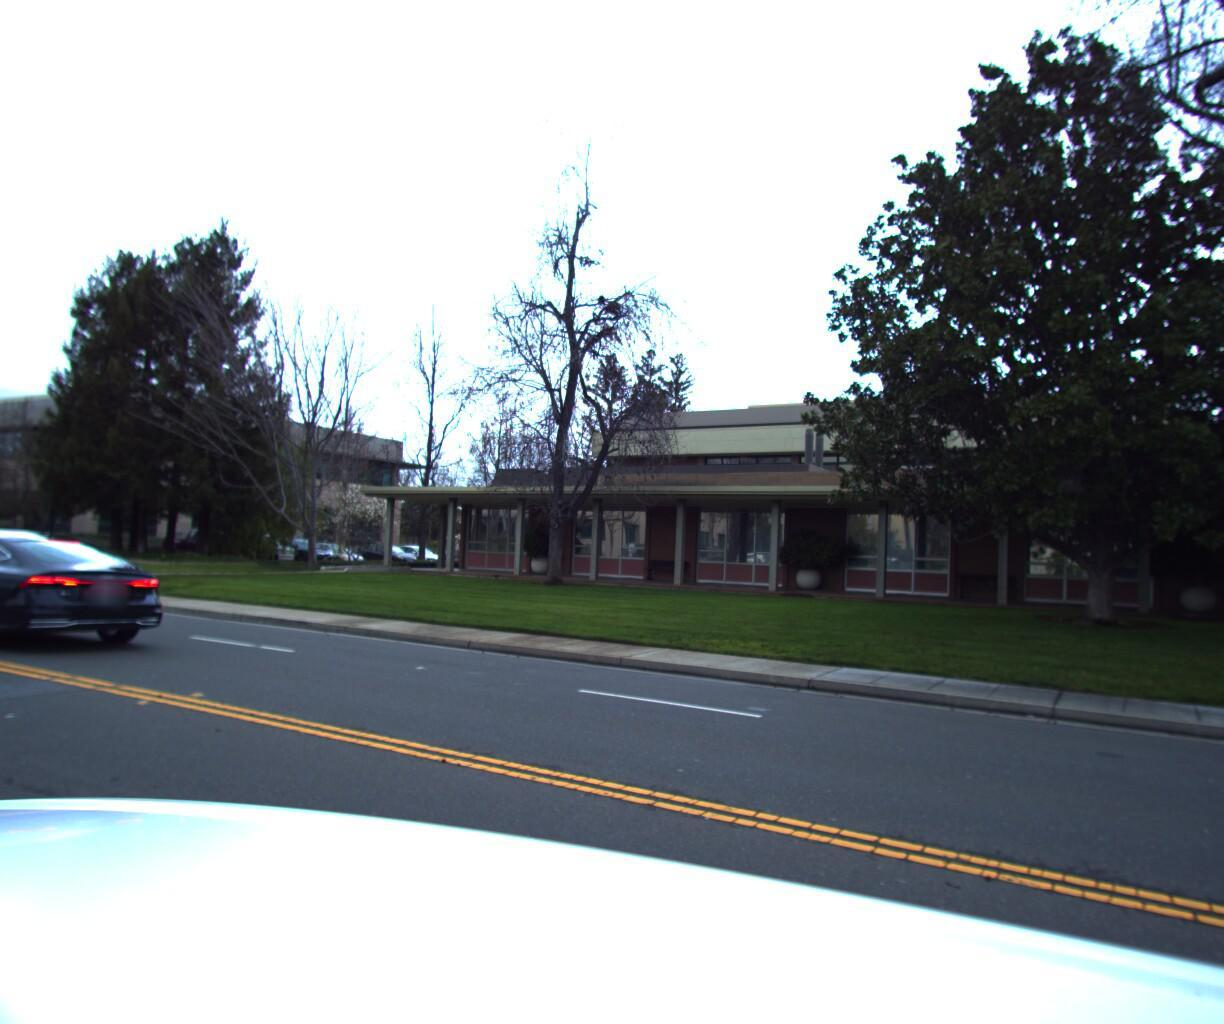car: (0, 521, 200, 670)
